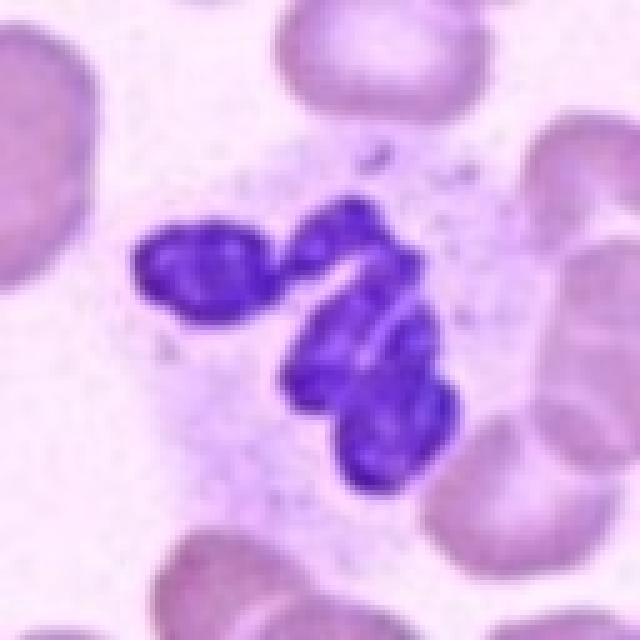neutro: (51, 103, 544, 523)
